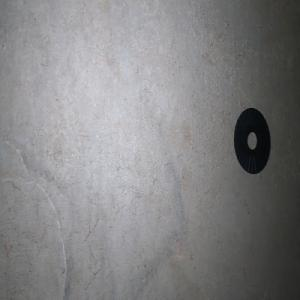Washer: (233, 107, 270, 174)
